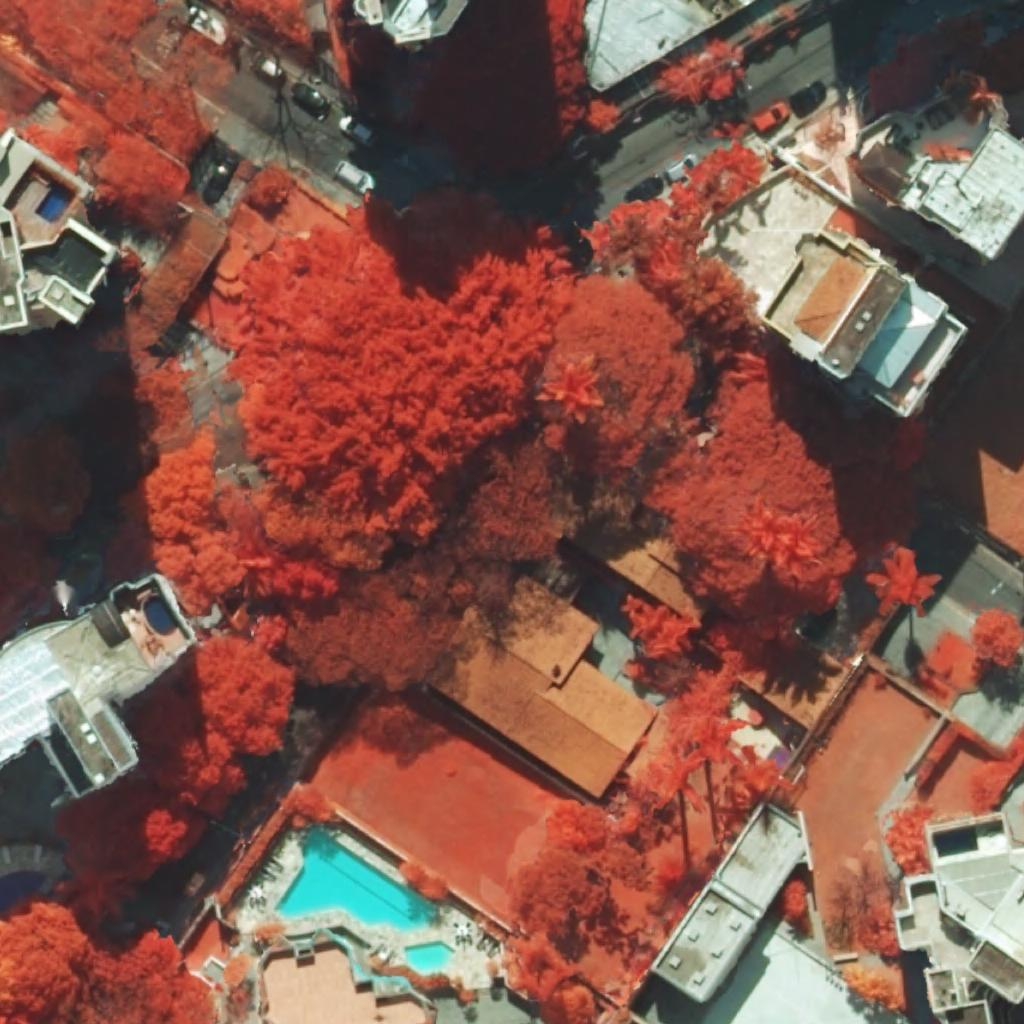pool: (274, 827, 439, 933), (35, 181, 75, 223), (405, 942, 456, 971), (144, 595, 179, 636)
